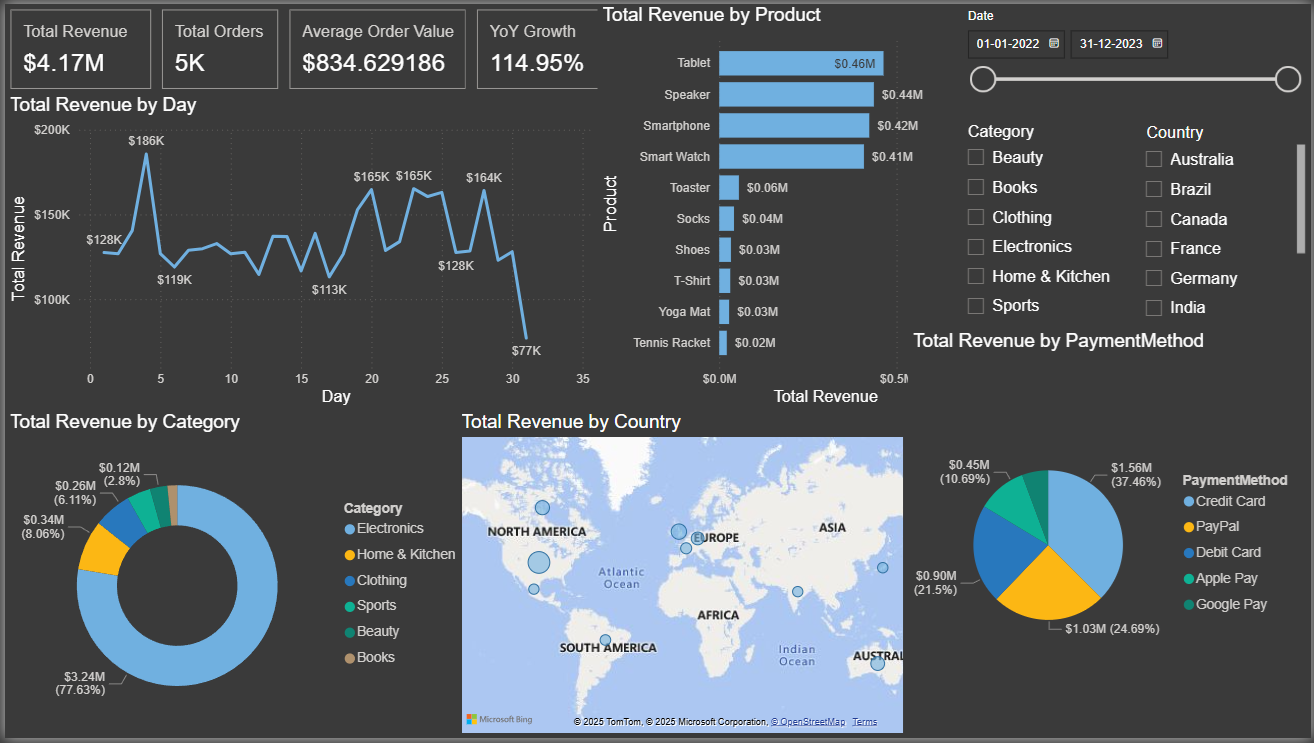

The dashboard page shown, as its layout file describes it:
{"tool":"powerbi","page":{"name":"Page 1","canvas":[1280,720],"ordinal":0},"visuals":[{"type":"cardVisual","fields":{"Data":["DateTable.Total Revenue"]},"box":[0,0,148.5,88.2],"z":0},{"type":"cardVisual","fields":{"Data":["DateTable.Total Orders"]},"box":[148.5,0,125,88.2],"z":1000},{"type":"cardVisual","fields":{"Data":["DateTable.Average Order Value"]},"box":[273.5,0,183.8,88.2],"z":2000},{"type":"cardVisual","fields":{"Data":["DateTable.YoY Growth"]},"box":[457.4,0,138.2,88.2],"z":3000},{"type":"lineChart","fields":{"Category":["DateTable.Date.Variation.Date Hierarchy.Day"],"Y":["DateTable.Total Revenue"]},"box":[0,88.2,580.9,310.3],"z":4000},{"type":"clusteredBarChart","fields":{"Category":["ecommerce_sales_data.Product"],"Y":["DateTable.Total Revenue"]},"box":[580.9,0,350,398.5],"z":5000},{"type":"donutChart","fields":{"Category":["ecommerce_sales_data.Category"],"Y":["DateTable.Total Revenue"]},"box":[0,398,456,322],"z":6000},{"type":"map","fields":{"Category":["ecommerce_sales_data.Country"],"Size":["DateTable.Total Revenue"]},"box":[442.6,398.5,442.6,322.1],"z":7000},{"type":"pieChart","fields":{"Category":["ecommerce_sales_data.PaymentMethod"],"Y":["DateTable.Total Revenue"]},"box":[885.3,319.1,394.1,401.5],"z":8000},{"type":"slicer","fields":{"Values":["DateTable.Date"]},"box":[930.9,0,348.5,100],"z":9000},{"type":"slicer","fields":{"Values":["ecommerce_sales_data.Category"]},"box":[930.9,110.3,175,207.4],"z":10000},{"type":"slicer","fields":{"Values":["ecommerce_sales_data.Country"]},"box":[1105.9,111.8,173.5,207.4],"z":11000}]}

Visuals, with their boxes in screenshot pixels (x1, y1, x2, y2), scaled from the page's 1280x720 canvas onto the 1314x743 screenshot:
cardVisual - DateTable.Total Revenue: bbox=[0, 0, 152, 91]
cardVisual - DateTable.Total Orders: bbox=[152, 0, 281, 91]
cardVisual - DateTable.Average Order Value: bbox=[281, 0, 469, 91]
cardVisual - DateTable.YoY Growth: bbox=[470, 0, 611, 91]
lineChart - DateTable.Date.Variation.Date Hierarchy.Day x DateTable.Total Revenue: bbox=[0, 91, 596, 411]
clusteredBarChart - ecommerce_sales_data.Product x DateTable.Total Revenue: bbox=[596, 0, 956, 411]
donutChart - ecommerce_sales_data.Category x DateTable.Total Revenue: bbox=[0, 411, 468, 742]
map - ecommerce_sales_data.Country x DateTable.Total Revenue: bbox=[454, 411, 909, 742]
pieChart - ecommerce_sales_data.PaymentMethod x DateTable.Total Revenue: bbox=[909, 329, 1313, 742]
slicer - DateTable.Date: bbox=[956, 0, 1313, 103]
slicer - ecommerce_sales_data.Category: bbox=[956, 114, 1135, 328]
slicer - ecommerce_sales_data.Country: bbox=[1135, 115, 1313, 329]
